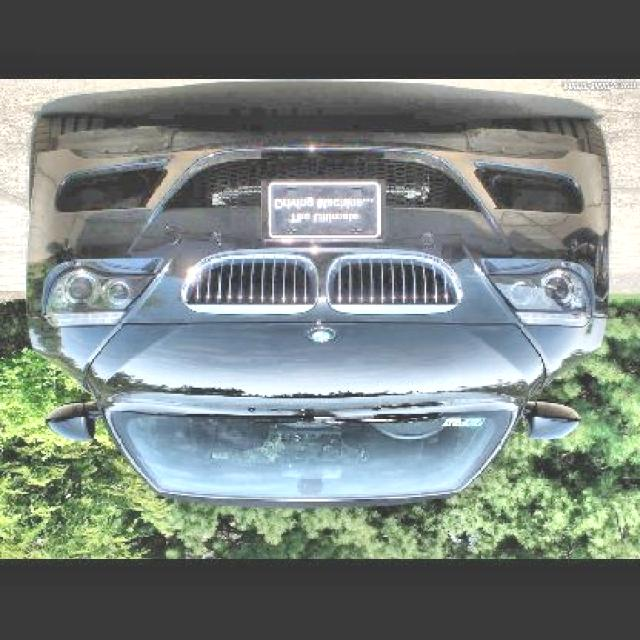black: (27, 108, 612, 510)
